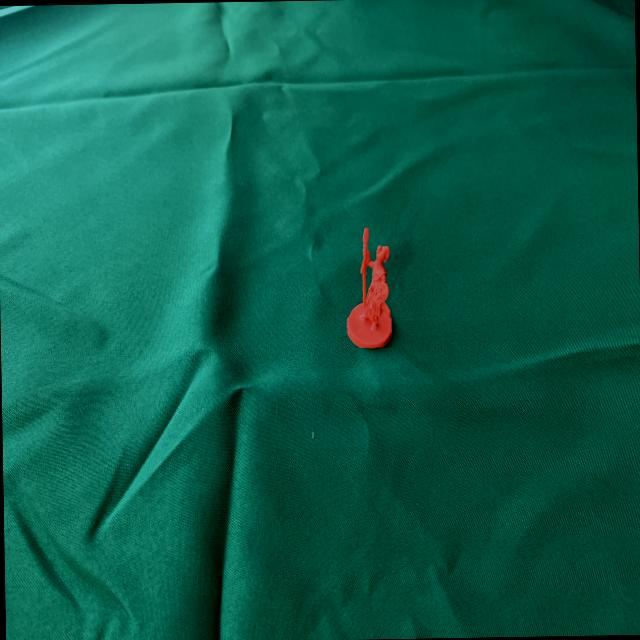amon_follower: (347, 227, 391, 347)
